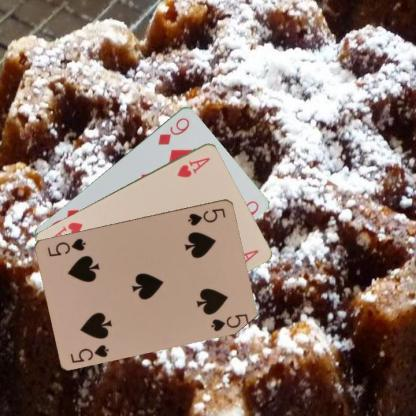5s: (67, 341, 110, 364), (185, 205, 227, 227)
9d: (156, 114, 191, 146)
Ah: (174, 154, 211, 179)
